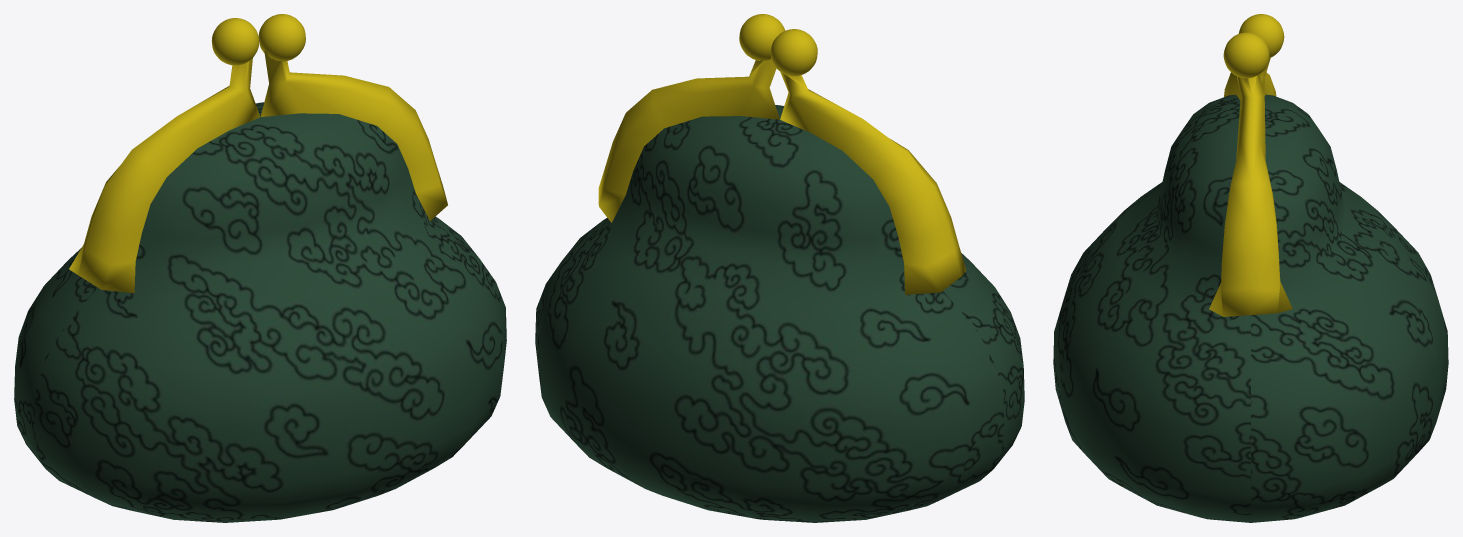
File: wallet.fbx
The picture shows the model from 3 angles, left to right: view 1: azimuth 30°, elevation 25°; view 2: azimuth 150°, elevation 25°; view 3: azimuth 270°, elevation 25°; orthographic projection. The views are drawn at different scales.
Parts seen in each view (by area): view 1: polySurface1; view 2: polySurface1; view 3: polySurface1.
Part boxes in pixels (x1,y1,x2,y2): polySurface1: (14, 14, 506, 522); polySurface1: (535, 14, 1024, 522); polySurface1: (1053, 14, 1448, 522).
Size of the model in its own units: 2.74 by 2.67 by 2.15.
Materials: 1 (1 with a texture image).
